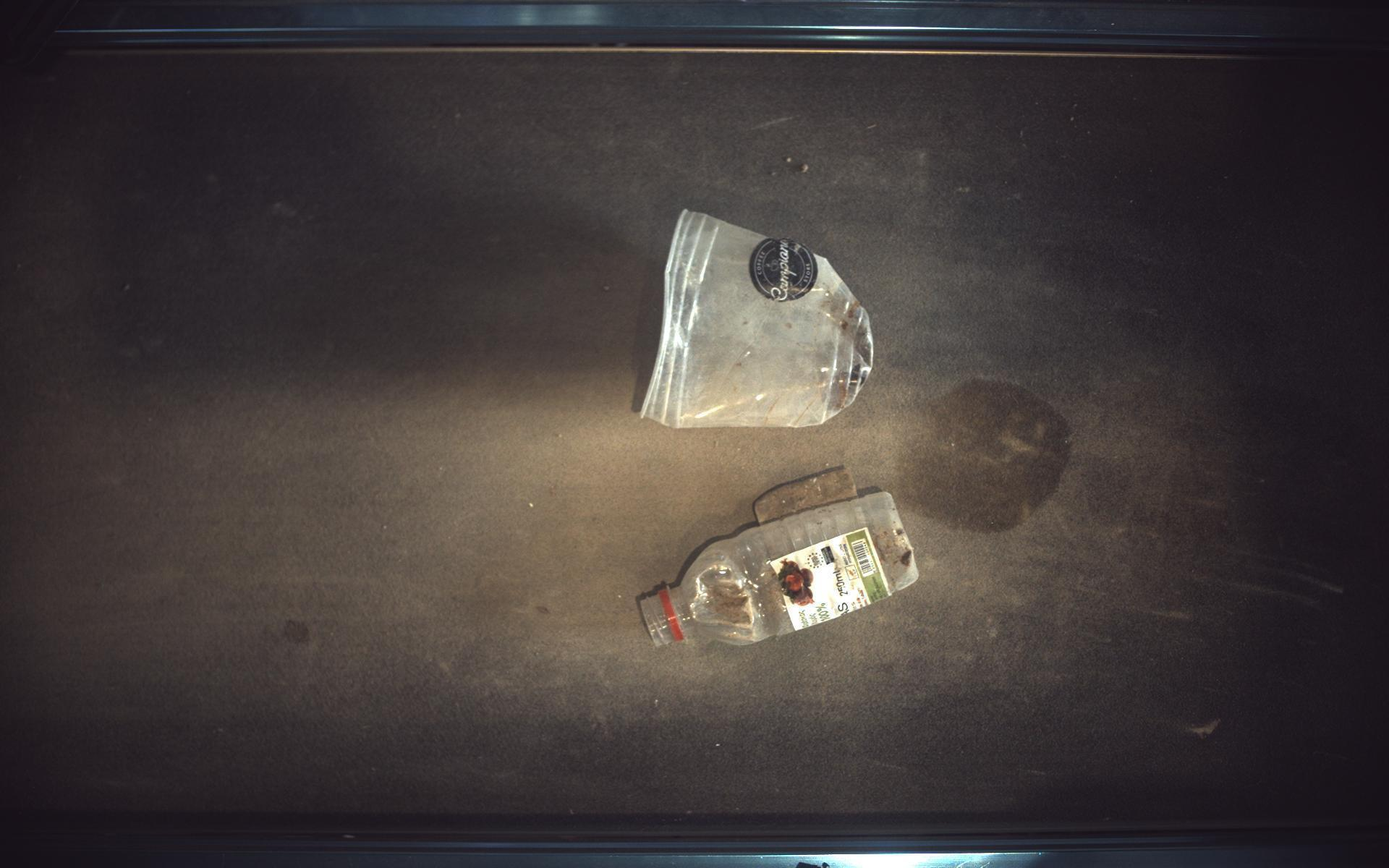general_w: (642, 209, 875, 427), (640, 469, 920, 647)
